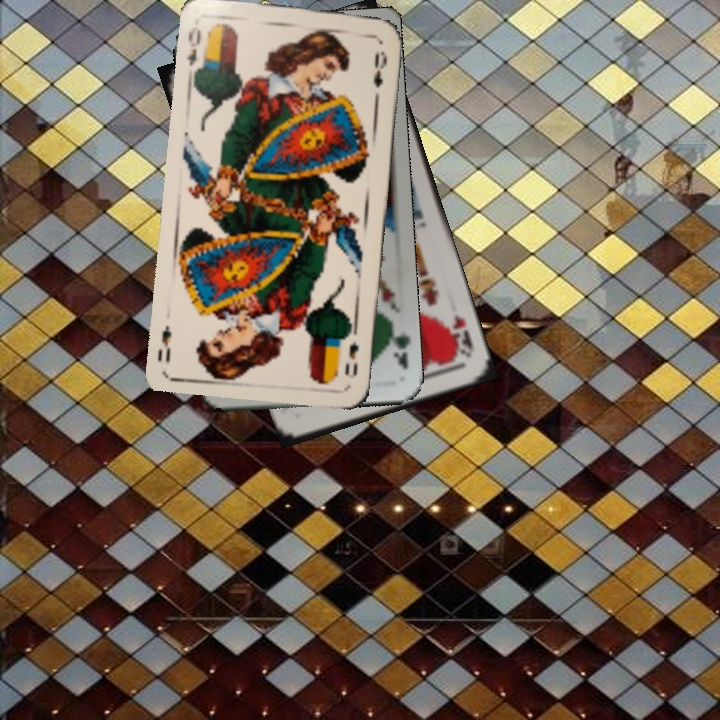EO: (340, 326, 362, 379), (183, 22, 204, 68)
GK: (385, 322, 412, 372)
HK: (444, 310, 476, 360)
